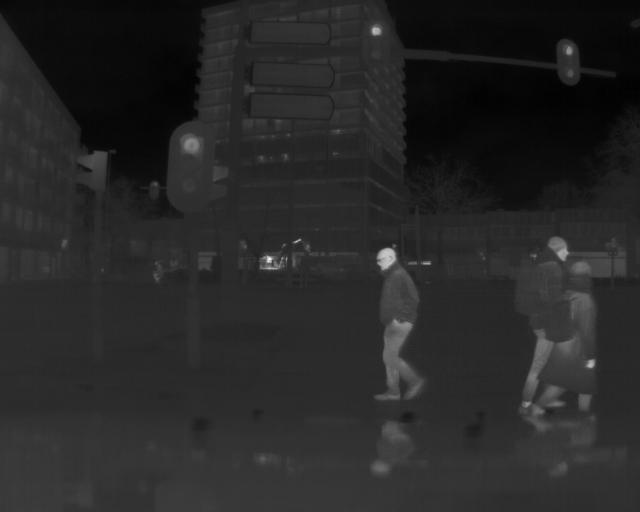person: (515, 231, 579, 414), (544, 261, 605, 427), (371, 245, 430, 405)
